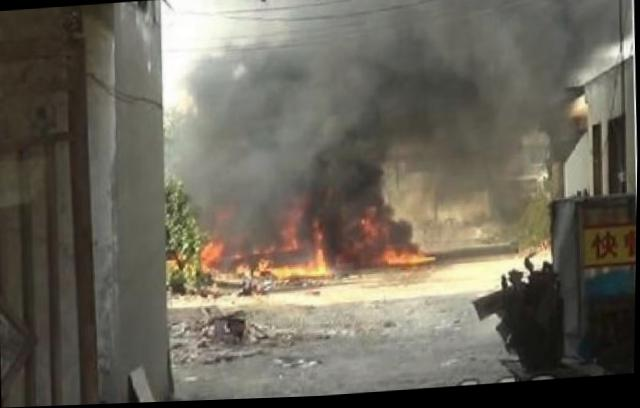fire: (268, 263, 326, 278), (384, 253, 431, 264), (200, 241, 220, 260), (314, 249, 326, 260)
